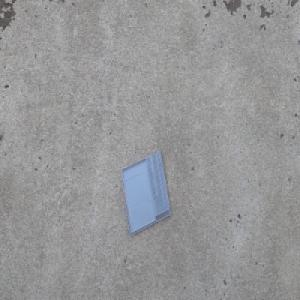PlasticPart: (120, 149, 171, 237)
